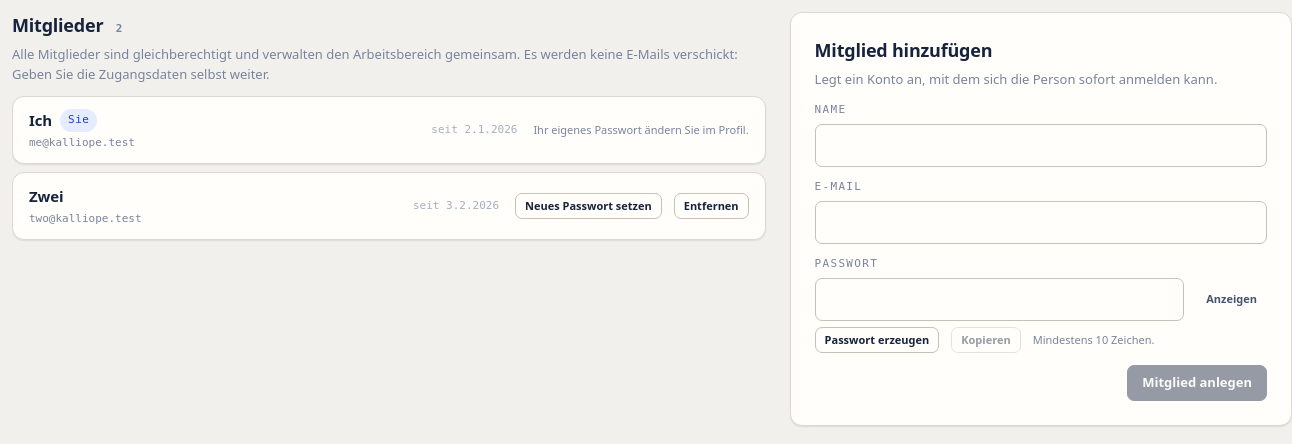
Test: members › shows a refusal in German
In the field with id "member-name": (1041, 145) [815, 124, 1267, 166], type "Neu"
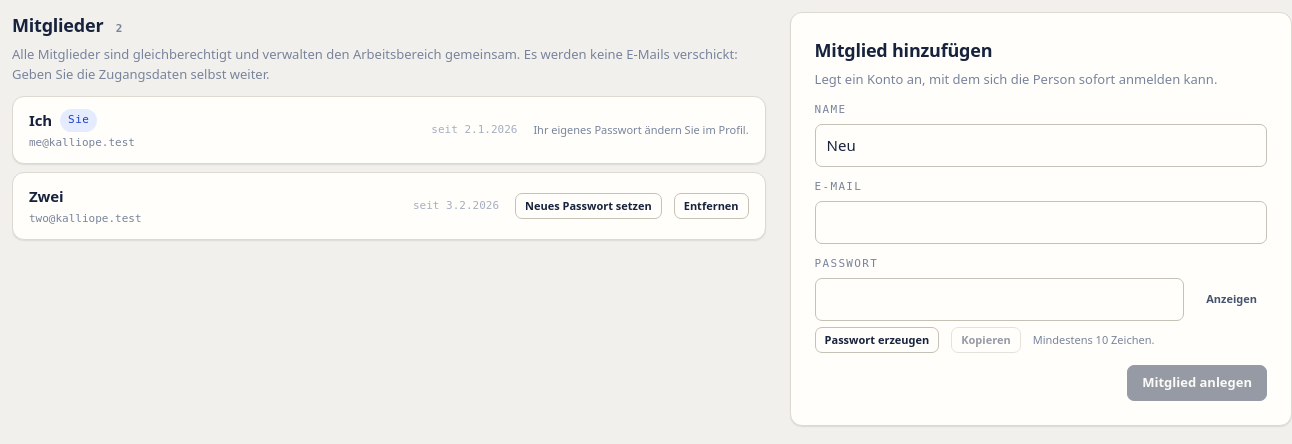
In the field with id "member-email": (1041, 222) [815, 201, 1267, 244], type "two@kalliope.test"
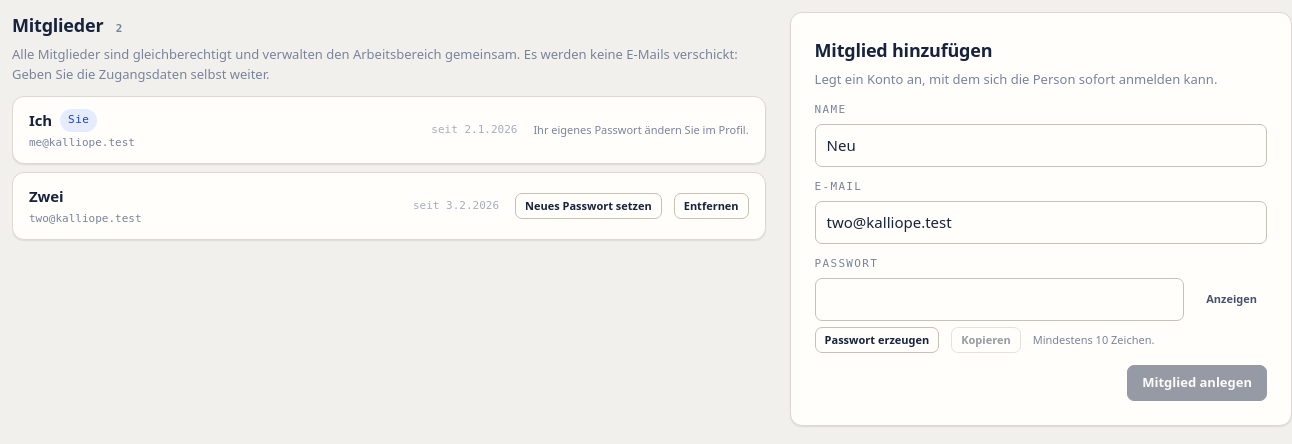
In the password field with id "member-password": (999, 299) [815, 278, 1184, 320], type "long-enough-pw"
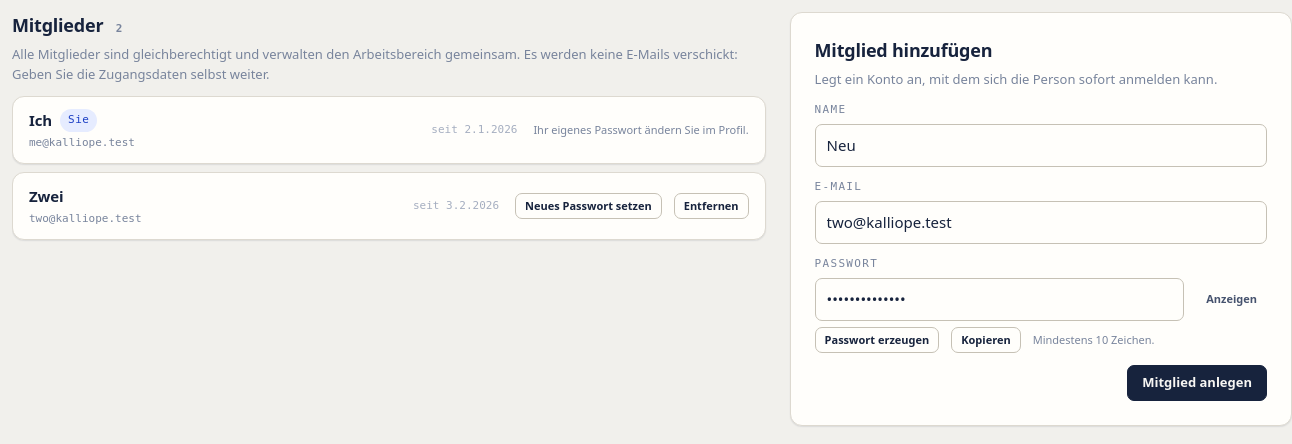
Submit the form, box [790, 12, 1291, 426]
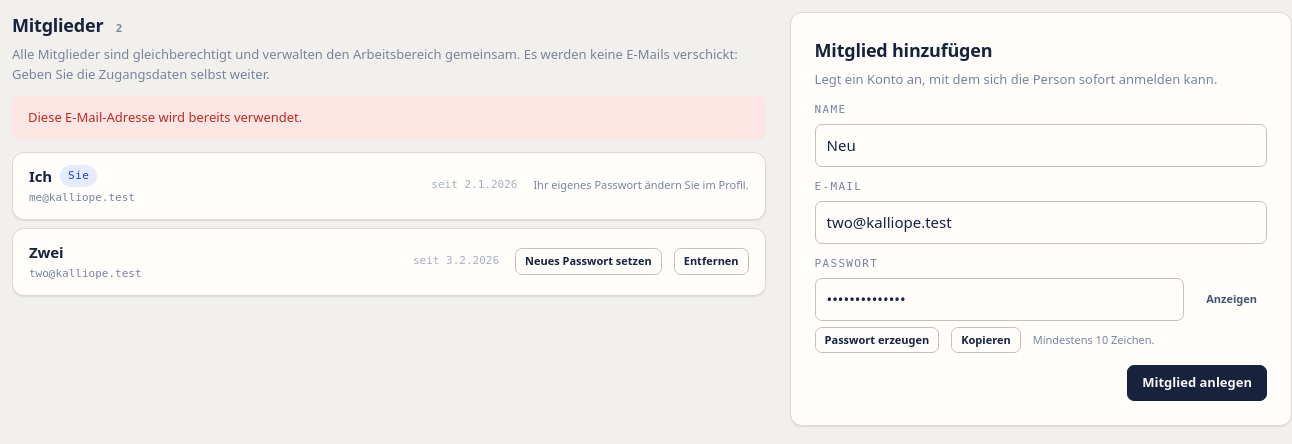
Expected: the message "Diese E-Mail-Adresse wird bereits verwendet." is shown, [12, 96, 766, 140]
